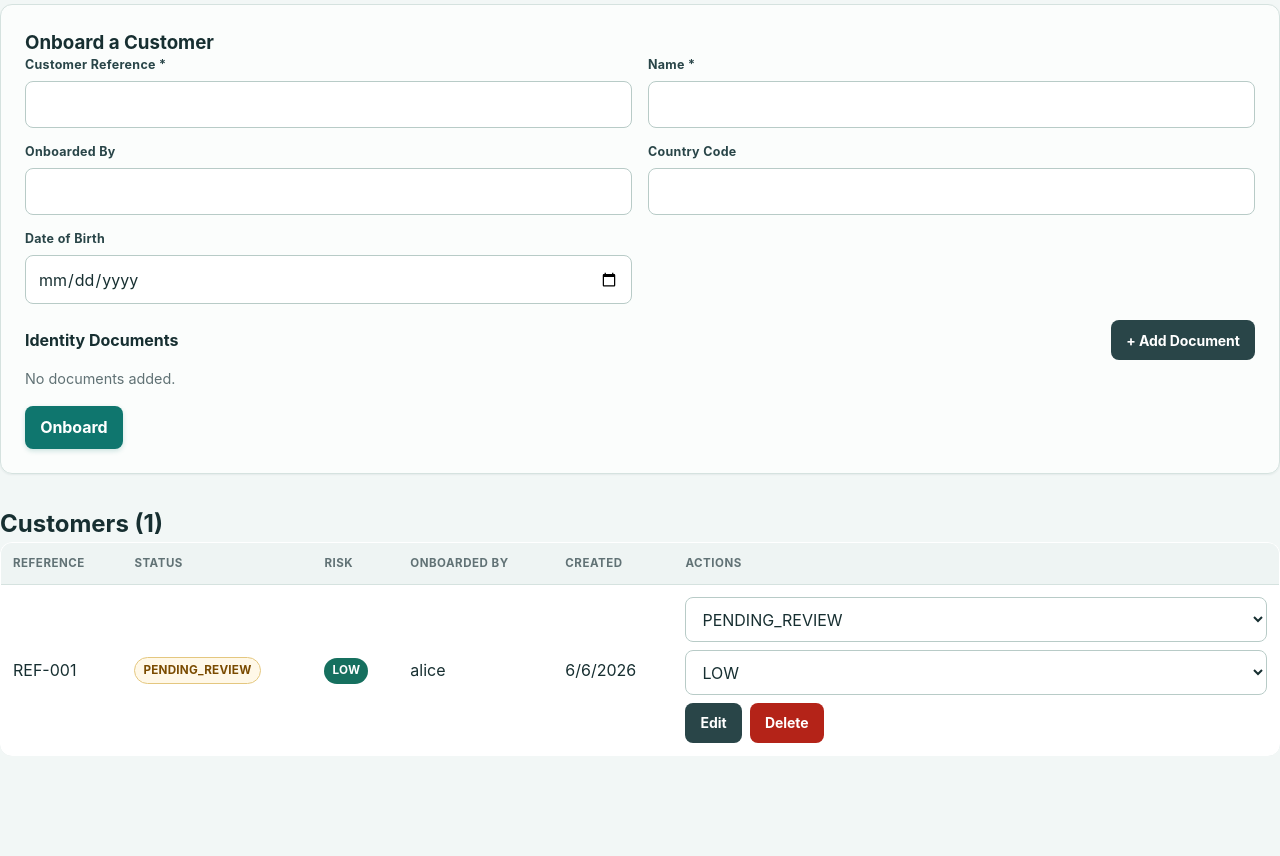
Test: CustomersPage › edit cancel › Cancel leaves edit mode without saving
Expected: the text "REF-001" is shown, [0,585,122,756]
Click the button with aria-label "edit REF-001".
click(714, 723)  # box [685,703,742,743]
(page scrolled)
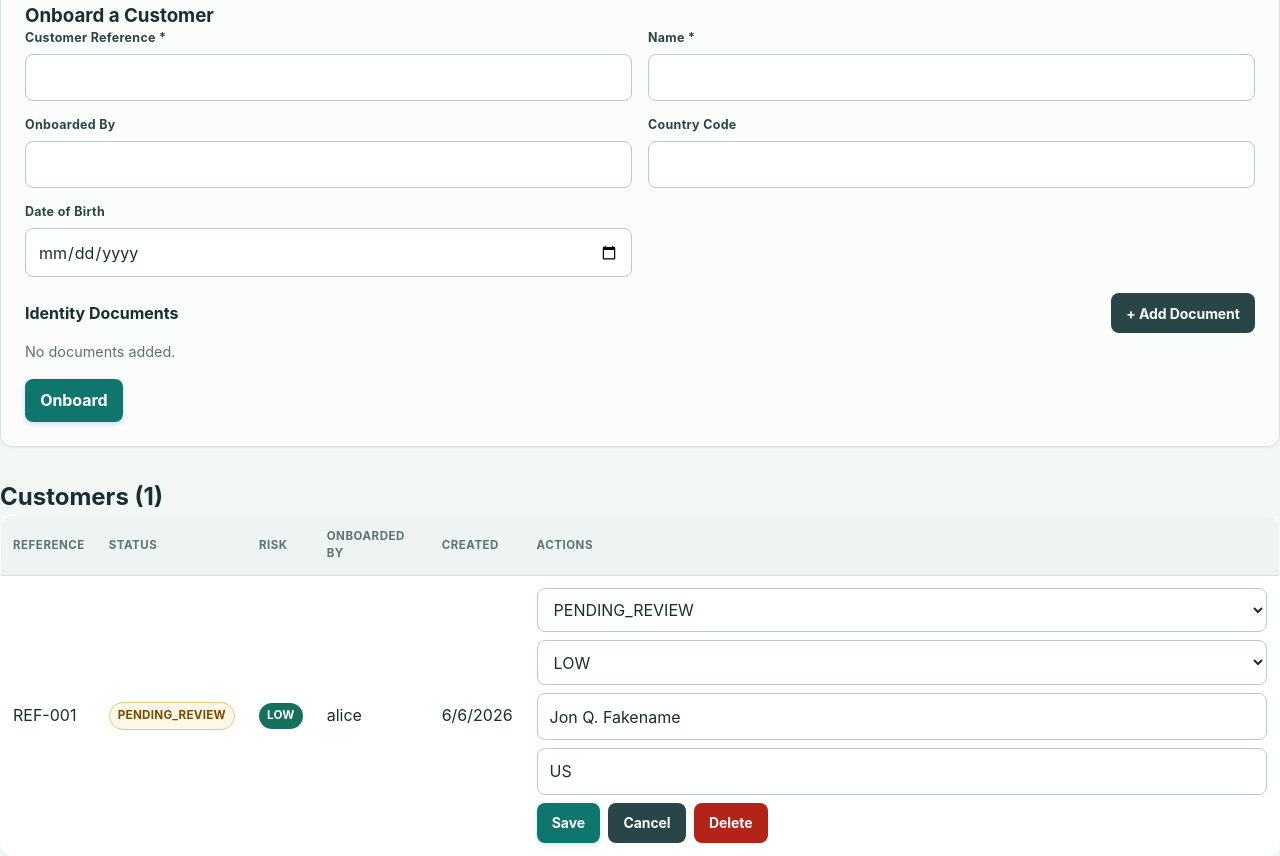
Expected: the field named "edit name for REF-001" is shown, [537,693,1267,740]
Click the button "Cancel".
click(647, 823)  # box [608,803,686,843]
(page scrolled)
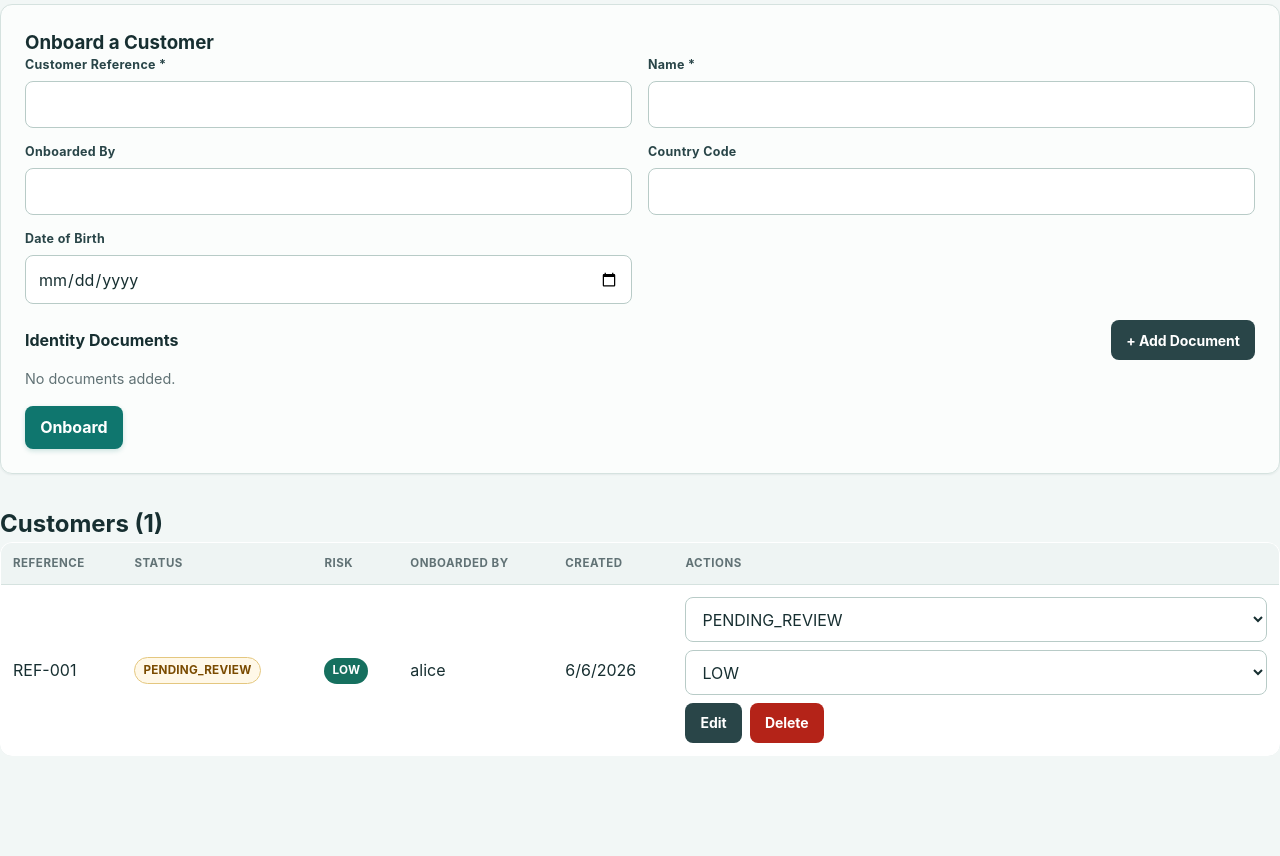
Expected: the button with aria-label "edit REF-001" is shown, [685,703,742,743]
